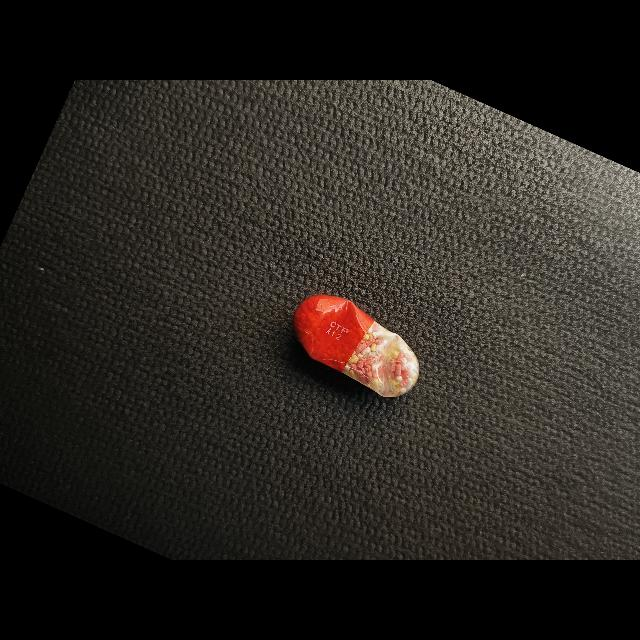Defective Capsule: (293, 295, 420, 397)
